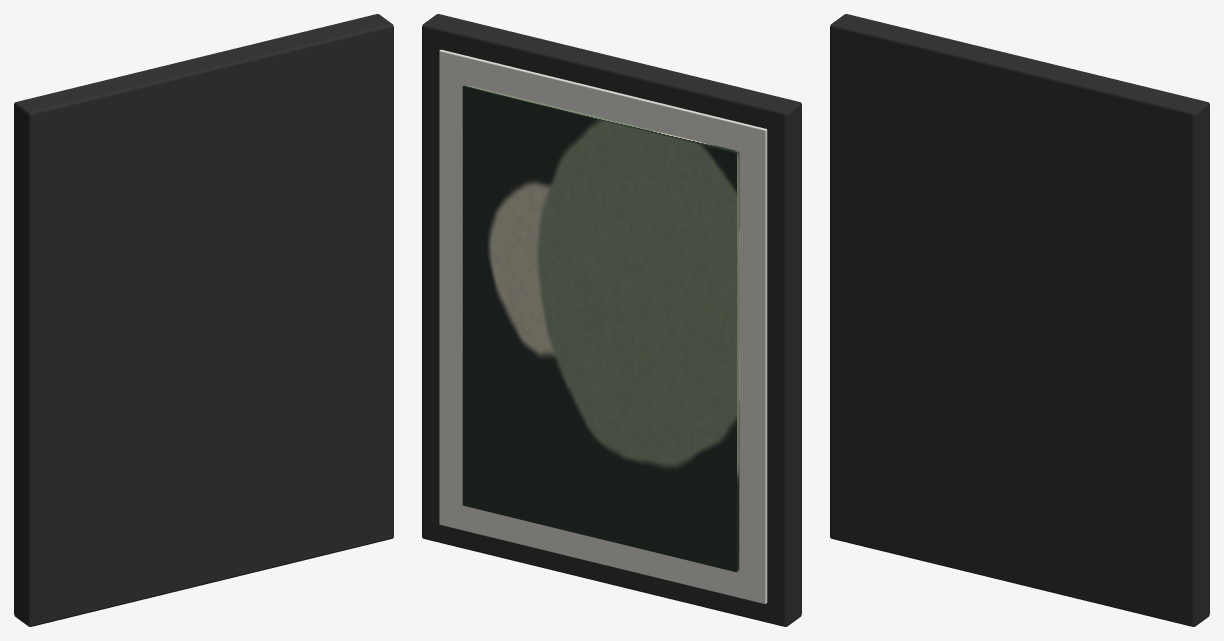
File: corridor_art_b1.glb
The picture shows the model from 3 angles, left to right: view 1: azimuth 30°, elevation 25°; view 2: azimuth 150°, elevation 25°; view 3: azimuth 330°, elevation 25°; orthographic projection.
Visible parts, largest first — view 1: corridor_art_b1; view 2: corridor_art_b1; view 3: corridor_art_b1.
Boxes of the visible parts, left/top/right/bottom form: corridor_art_b1: left=14, top=14, right=393, bottom=626; corridor_art_b1: left=422, top=14, right=801, bottom=626; corridor_art_b1: left=830, top=14, right=1209, bottom=626.
Size of the model in its own units: 0.52 by 0.7 by 0.05.
Materials: 3 (1 with a texture image).
